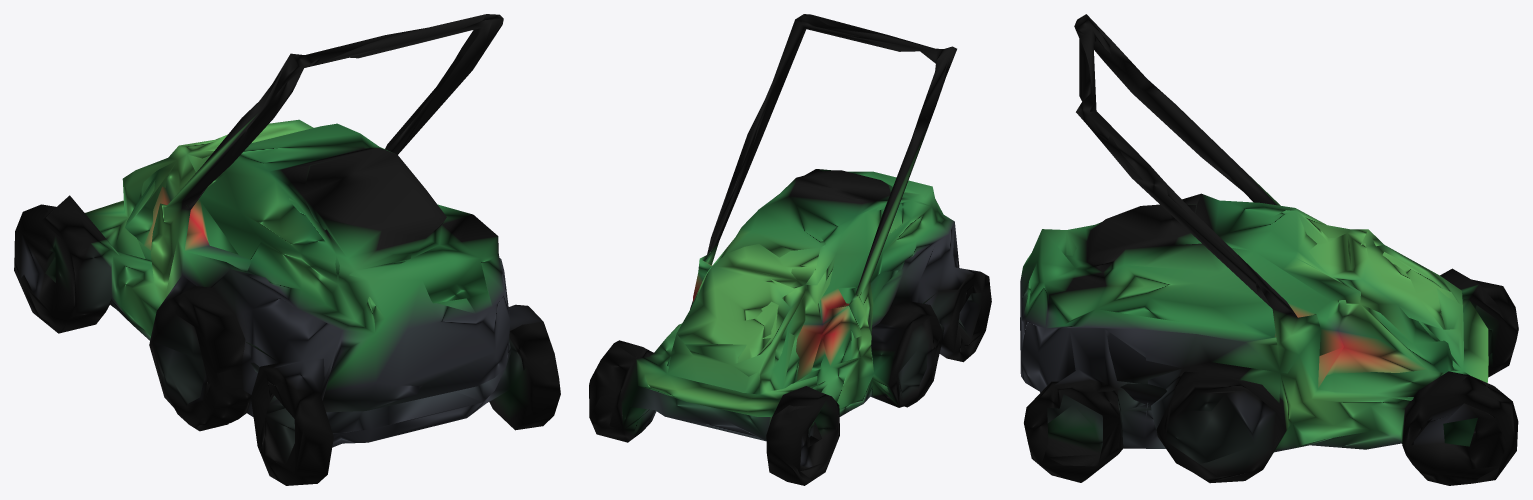
File: gen3d-lawn-mower-lod0.glb
3 renders of one model, left to right at view 1: azimuth 30°, elevation 25°; view 2: azimuth 150°, elevation 25°; view 3: azimuth 270°, elevation 25°, orthographic. The views are drawn at different scales.
Visible parts, largest first — view 1: part_0; view 2: part_0; view 3: part_0.
Part boxes in pixels (box(x1,y1,x2,y2)): part_0: box(14, 14, 560, 485); part_0: box(589, 14, 991, 485); part_0: box(1020, 14, 1518, 485).
Bounding box in the file's own units: 0.6978 × 0.9986 × 1.22.
